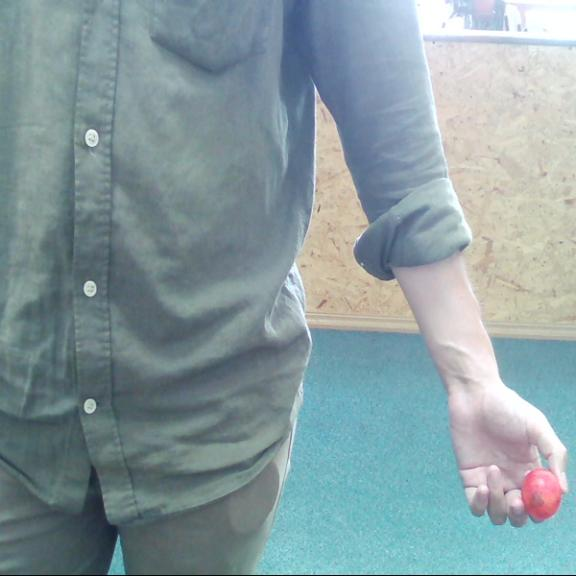ball: (520, 470, 563, 520)
